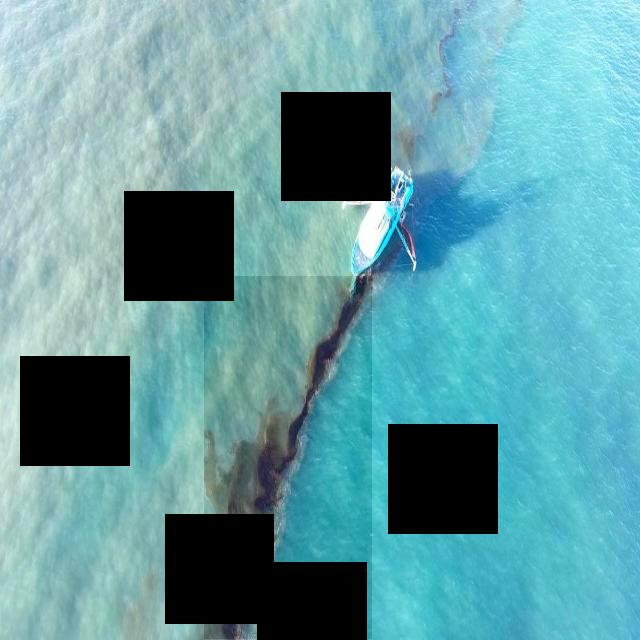oil spill: (204, 276, 372, 640)
